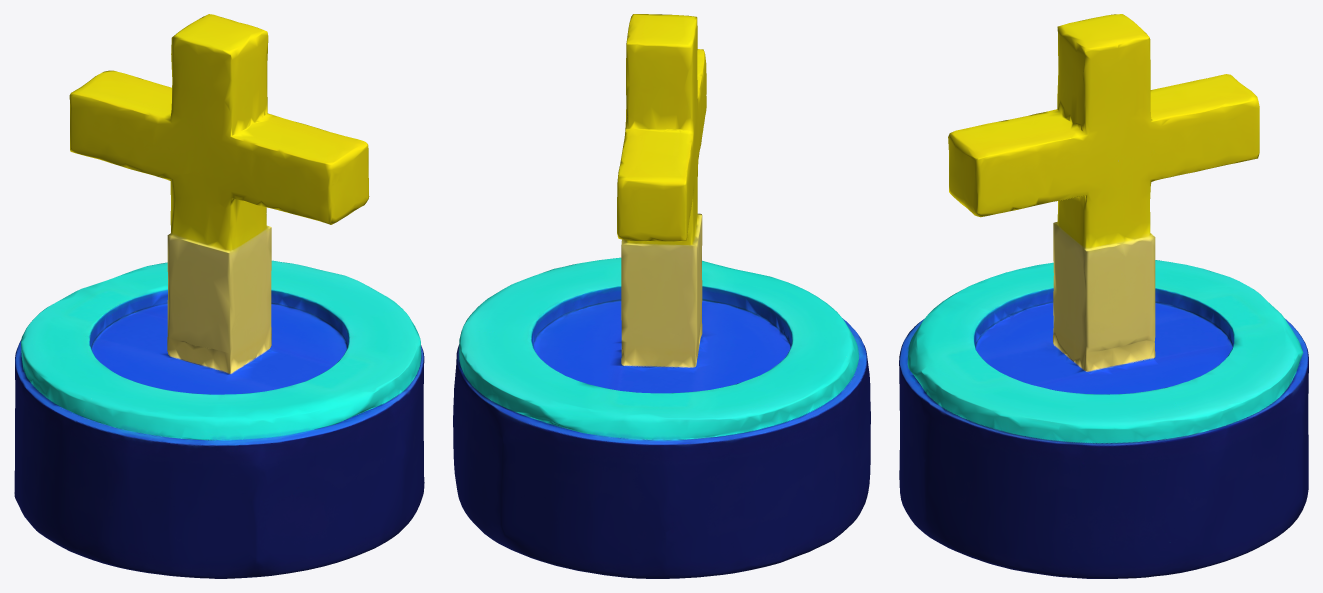
Rendered from respawn-beacon.glb.
3 views of the same model, side by side, from view 1: azimuth 30°, elevation 25°; view 2: azimuth 150°, elevation 25°; view 3: azimuth 270°, elevation 25° (orthographic).
Parts seen in each view (by area): view 1: tripo_node_e9bf357a-5ef4-429e-bcb5-5f4f1be3da00; view 2: tripo_node_e9bf357a-5ef4-429e-bcb5-5f4f1be3da00; view 3: tripo_node_e9bf357a-5ef4-429e-bcb5-5f4f1be3da00.
Boxes of the visible parts, bbox=[...] form: tripo_node_e9bf357a-5ef4-429e-bcb5-5f4f1be3da00: bbox=[14, 14, 424, 578]; tripo_node_e9bf357a-5ef4-429e-bcb5-5f4f1be3da00: bbox=[453, 14, 870, 578]; tripo_node_e9bf357a-5ef4-429e-bcb5-5f4f1be3da00: bbox=[899, 14, 1308, 578].
Size of the model in its own units: 0.8005 by 1 by 0.795.
1 material, 1 textured.
